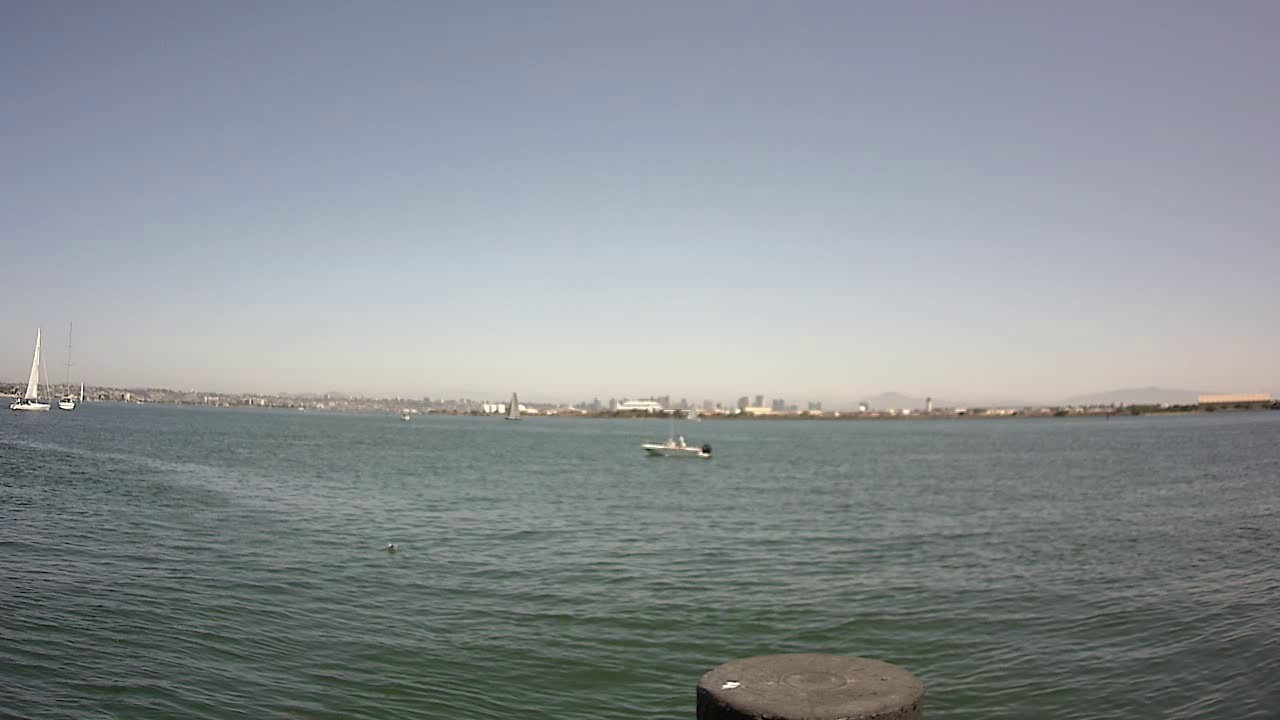target: (637, 426, 722, 469)
